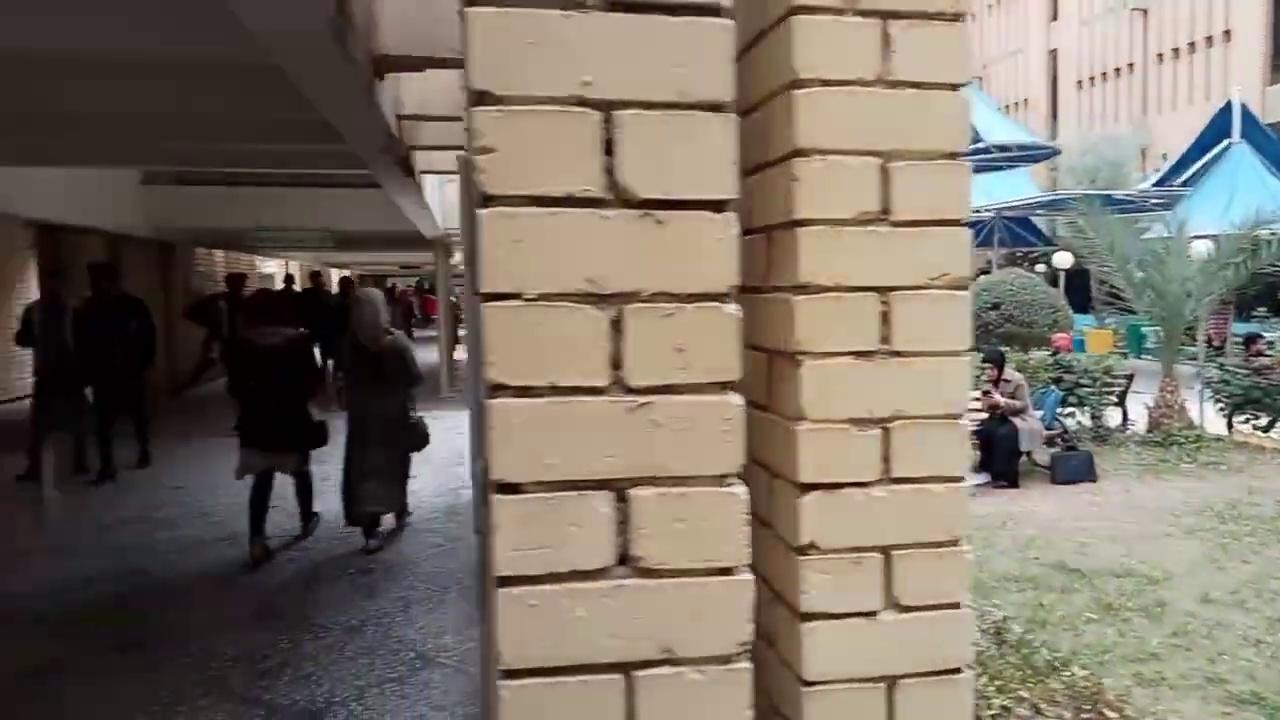person: (220, 286, 327, 566), (336, 286, 425, 555), (70, 259, 157, 486), (13, 267, 91, 483), (971, 347, 1042, 488)
tree: (1066, 191, 1277, 434), (971, 264, 1074, 351), (1143, 373, 1195, 435)
